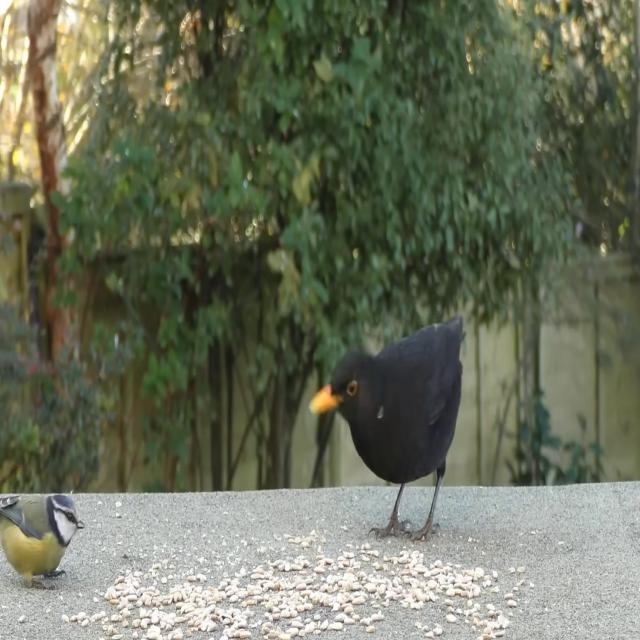beak: (308, 383, 342, 412)
bird: (312, 324, 468, 547), (0, 487, 81, 595)
